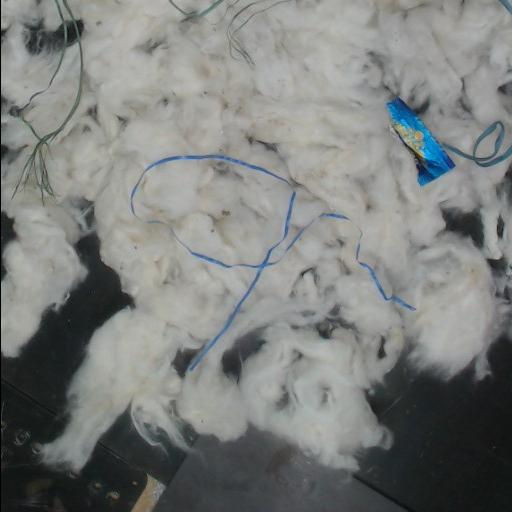conveyor belt: (1, 237, 512, 511), (25, 19, 83, 54), (222, 329, 262, 378), (444, 210, 483, 248), (487, 255, 512, 299), (174, 350, 199, 375), (1, 212, 14, 253), (1, 144, 18, 165), (1, 96, 18, 113), (498, 217, 504, 239)
cotton: (1, 0, 512, 471)
packet: (387, 98, 454, 185)
thread: (171, 187, 348, 371), (18, 20, 87, 196), (130, 154, 289, 218), (167, 0, 290, 65), (354, 243, 414, 309), (25, 18, 68, 110), (441, 121, 512, 167), (54, 0, 72, 16), (497, 0, 512, 16), (147, 220, 164, 223)
